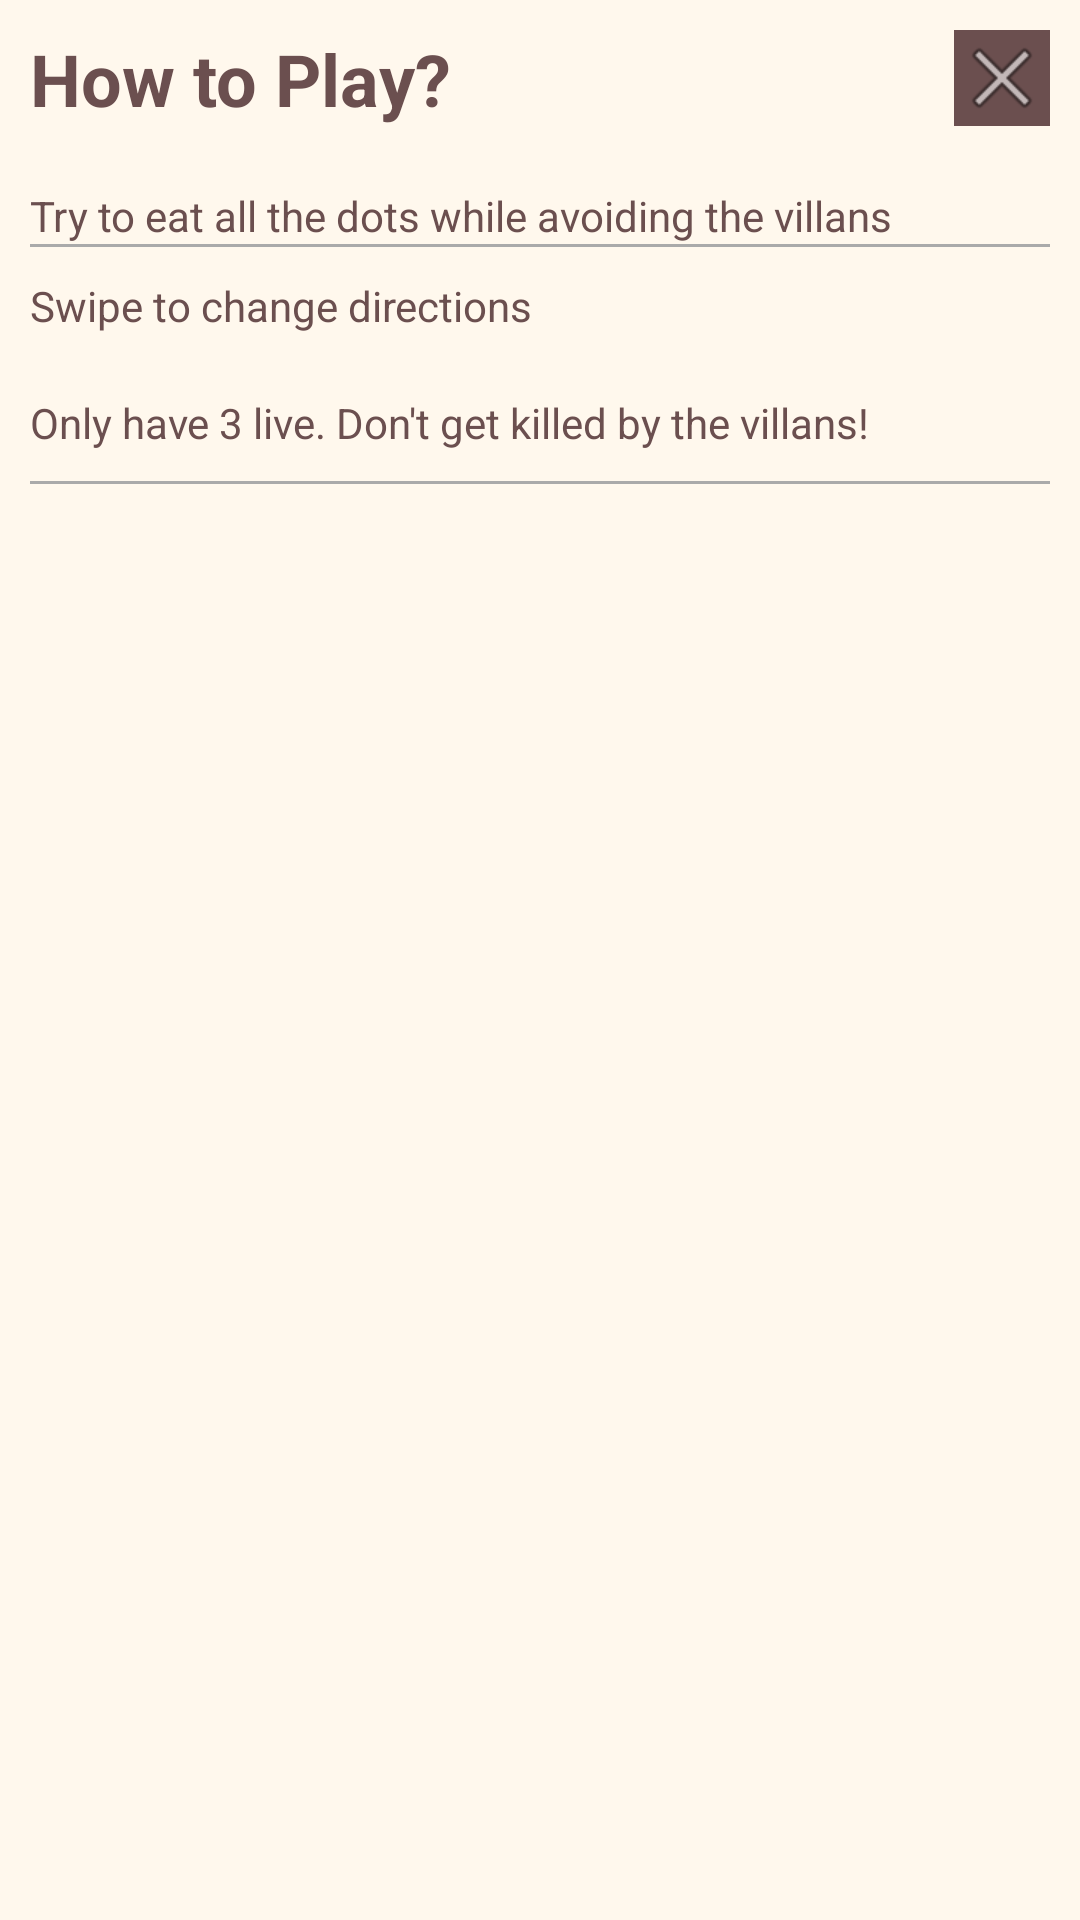

Screen size 1080×1920. Icon name, then its center in pixels as [x,y]:
close clear cancel: [1002,78]
